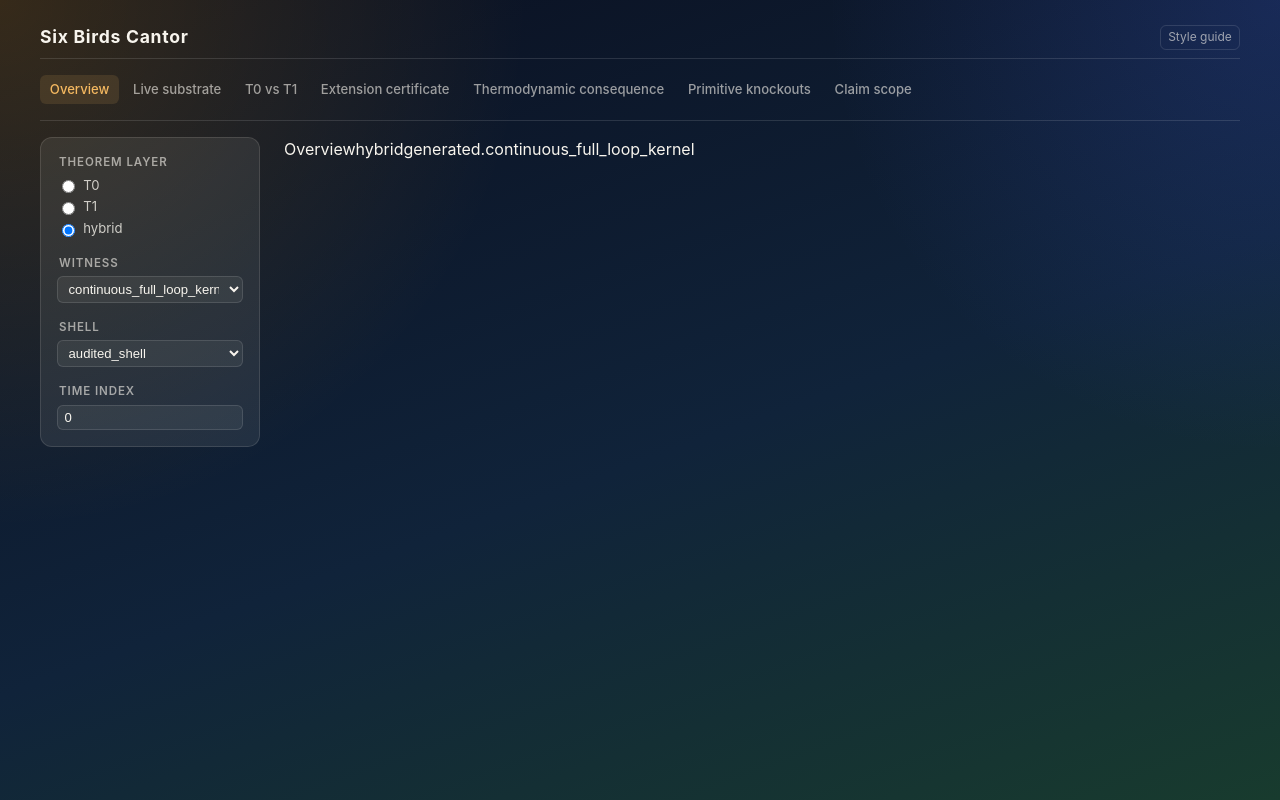
Test: AppShell › navigating changes the visible section for all routes
Click the link "T0 vs T1": (271, 89) [245,81,297,97]
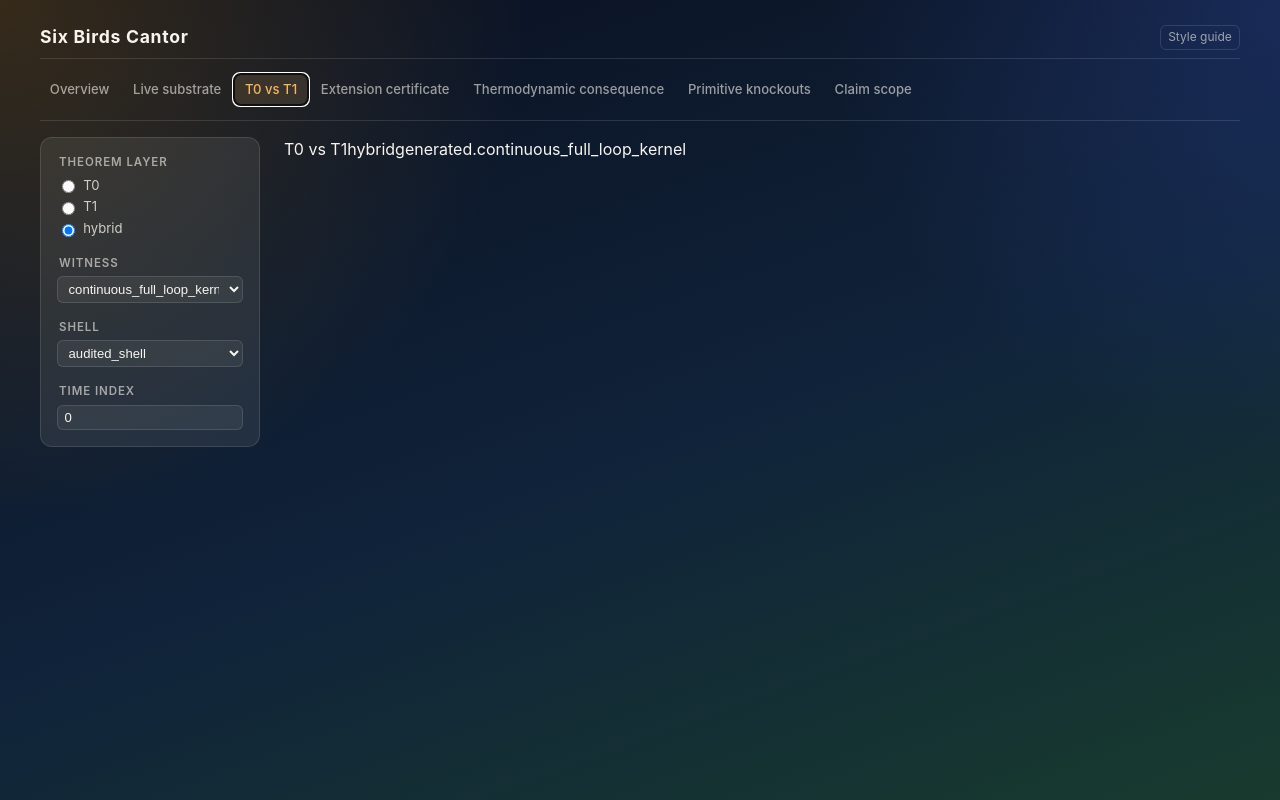
Expected: the text with test id "page-label" reads "T0 vs T1", [284,139,347,159]
Click the link "Claim scope": (873, 89) [835,81,912,97]
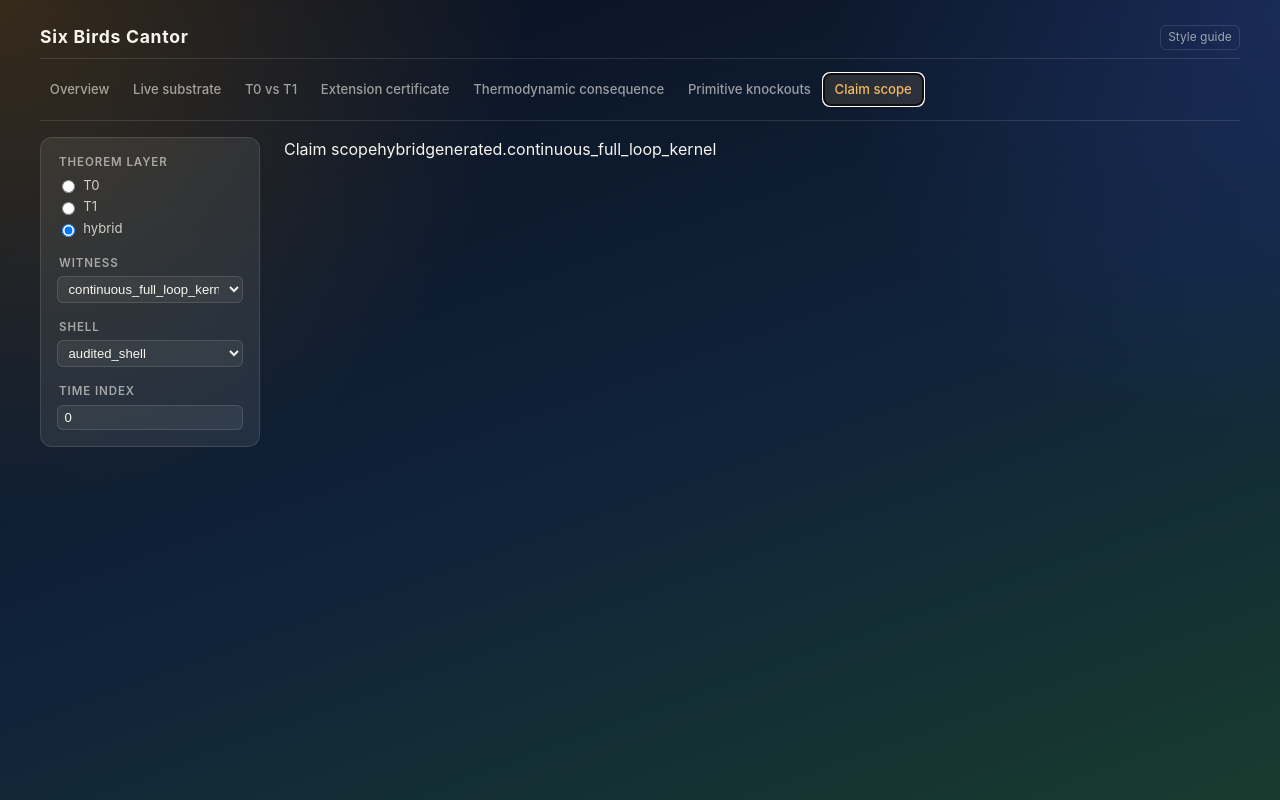
Expected: the text with test id "page-label" reads "Claim scope", [284,139,377,159]
Click the link "Overview": (80, 89) [50,81,109,97]
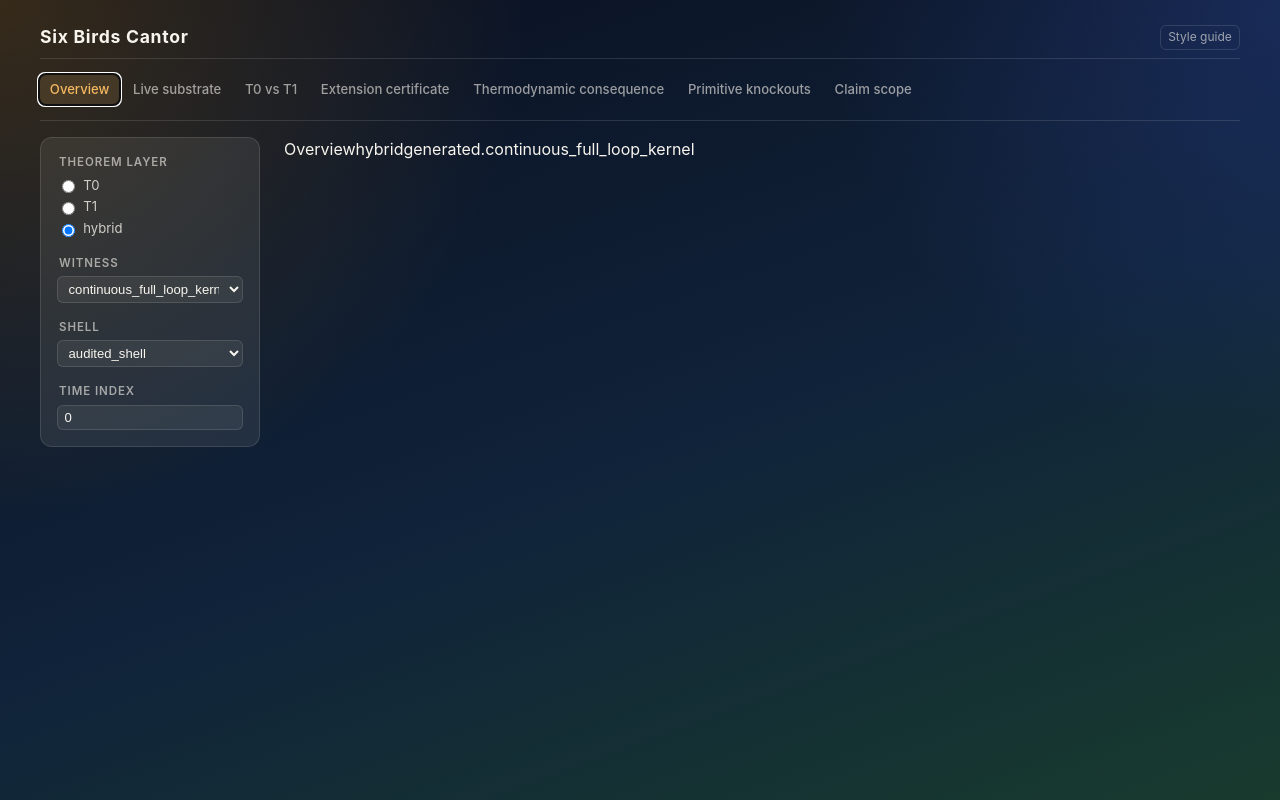
Expected: the text with test id "page-label" reads "Overview", [284,139,356,159]
